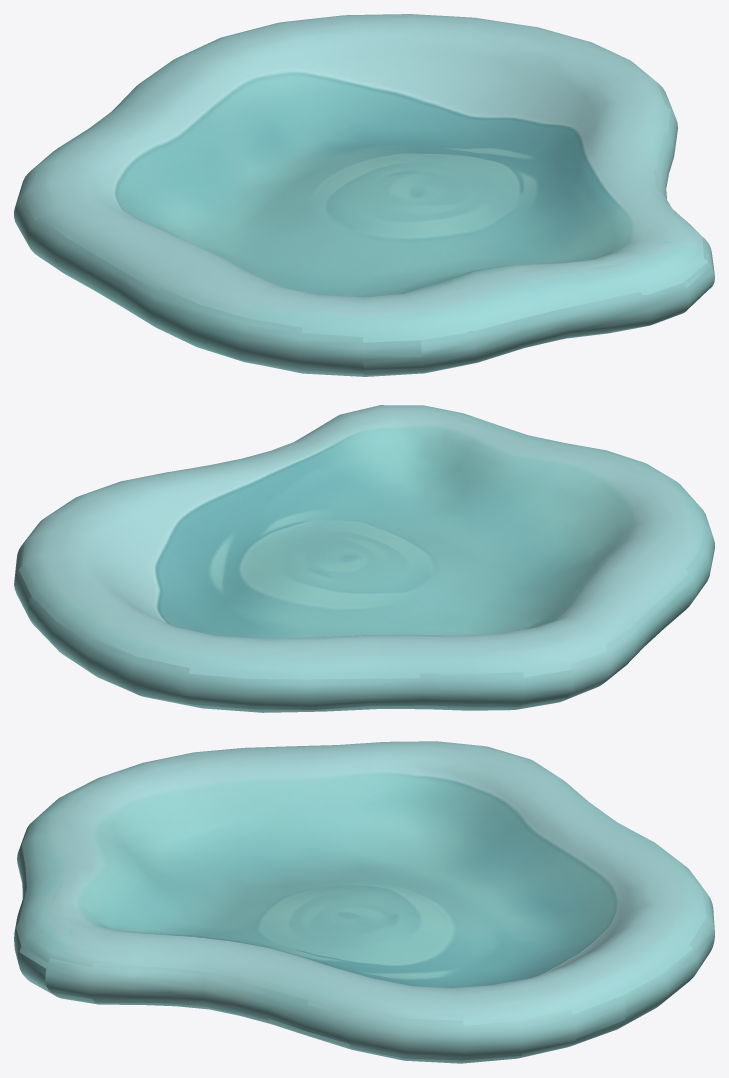
Rendered from puddle.glb.
3 renders of one model, top to bottom at view 1: azimuth 30°, elevation 25°; view 2: azimuth 150°, elevation 25°; view 3: azimuth 270°, elevation 25°, orthographic. The views are drawn at different scales.
Visible parts, largest first — view 1: Mesh0; view 2: Mesh0; view 3: Mesh0.
Part boxes in pixels (x1,y1,x2,y2): Mesh0: (14, 14, 714, 376); Mesh0: (14, 405, 714, 712); Mesh0: (14, 741, 714, 1063).
Size of the model in its own units: 0.8 by 0.1174 by 0.8246.
Materials: 1 (1 with a texture image).
